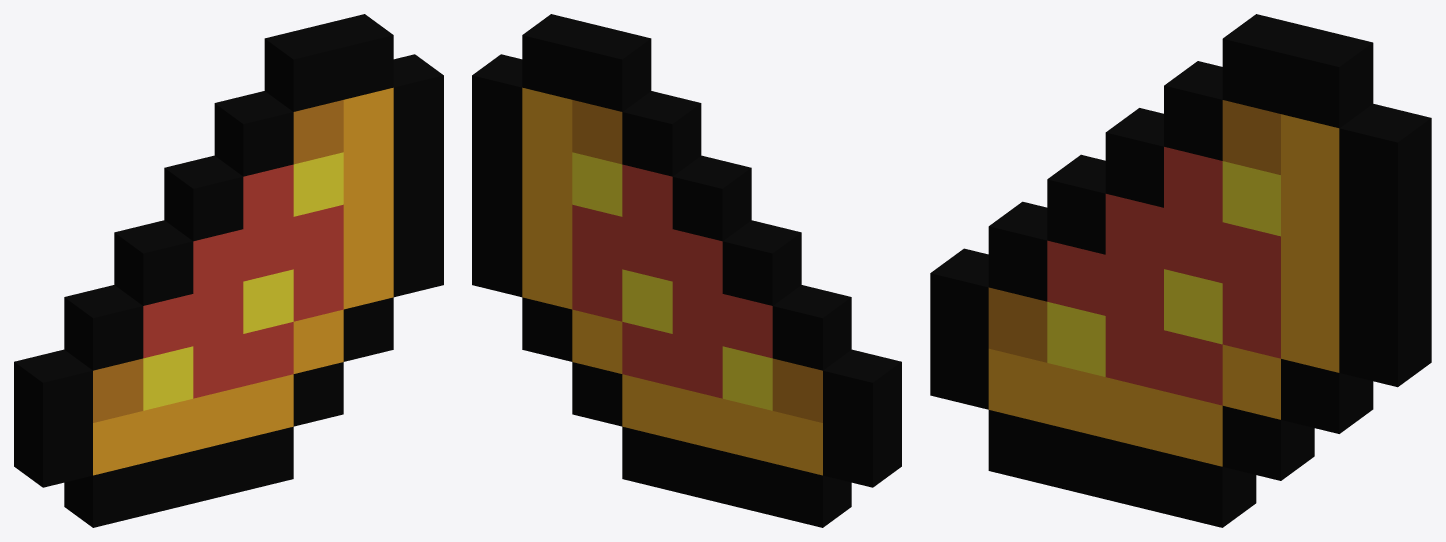
Rendered from Gold Watermelon Slice.glb.
3 renders of one model, left to right at view 1: azimuth 30°, elevation 25°; view 2: azimuth 150°, elevation 25°; view 3: azimuth 330°, elevation 25°, orthographic. The views are drawn at different scales.
Visible parts, largest first — view 1: generated(Clone); view 2: generated(Clone); view 3: generated(Clone).
Part boxes in pixels (x1,y1,x2,y2): generated(Clone): (14,14,443,527); generated(Clone): (472,14,901,527); generated(Clone): (930,14,1431,527).
Size of the model in its own units: 8 by 8 by 1.
1 material, 1 textured.
